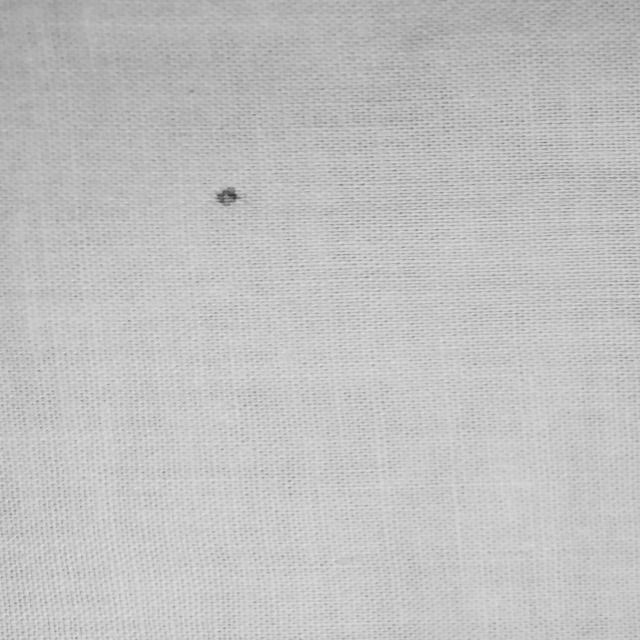Stain: (216, 186, 240, 206)
